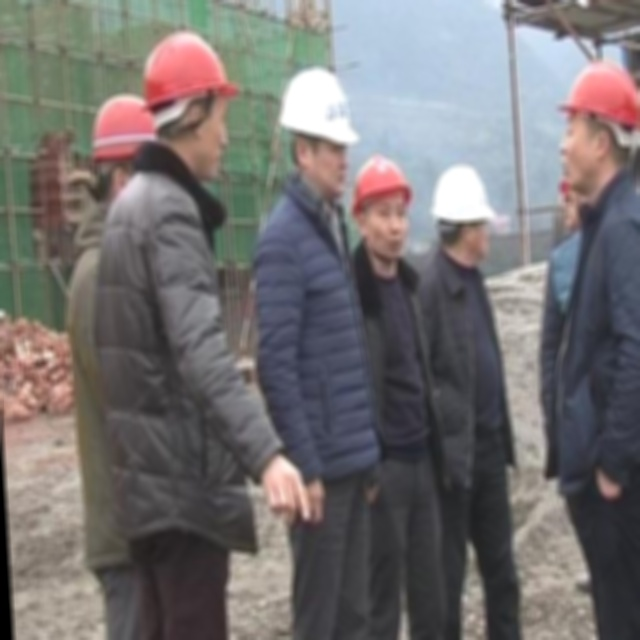Con_Casco: (140, 26, 229, 170), (548, 65, 639, 188), (280, 59, 354, 175)
Sin_Chaleco: (258, 192, 377, 477)
